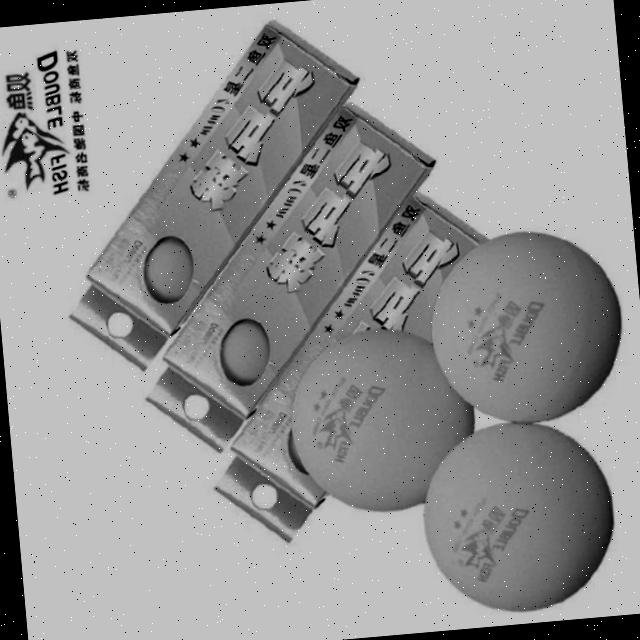ping-pong-ball: (416, 218, 632, 432), (410, 410, 624, 622), (278, 317, 484, 521), (215, 320, 274, 382), (138, 233, 195, 297)
